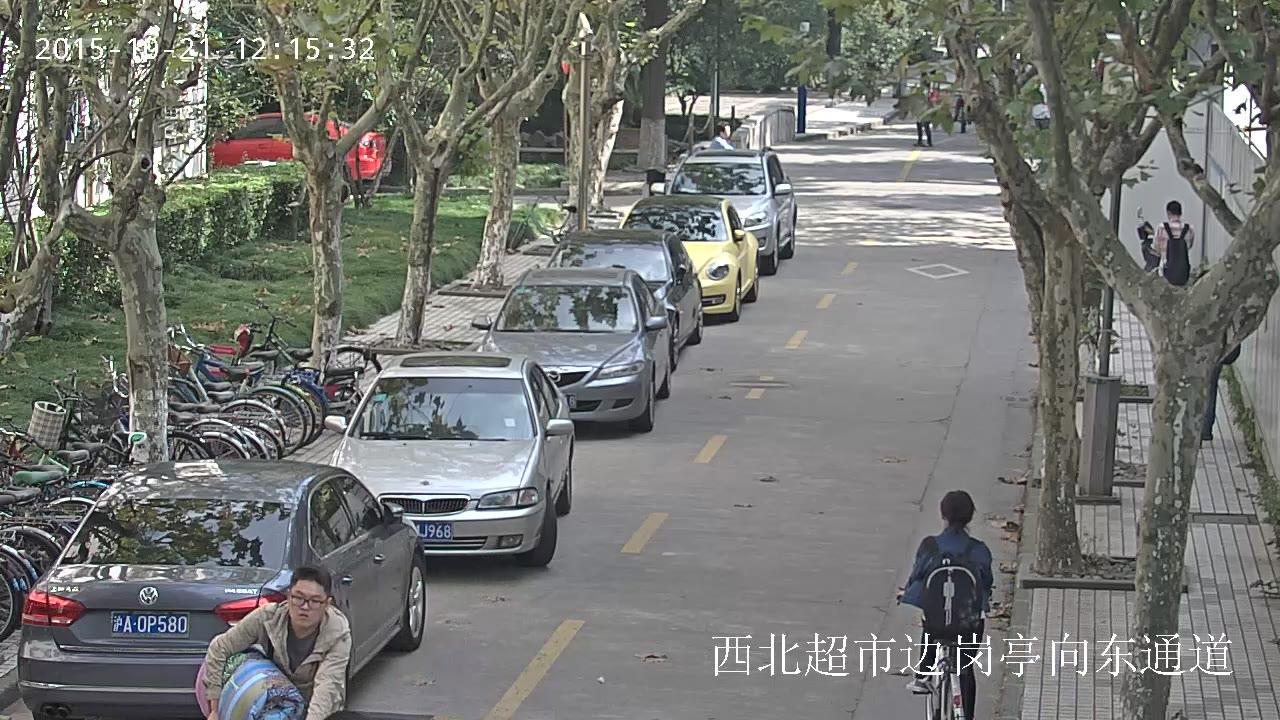person: (192, 563, 350, 720), (200, 563, 350, 720), (895, 489, 994, 720), (896, 490, 993, 720), (1152, 199, 1194, 285), (707, 121, 735, 150), (911, 120, 933, 146)
